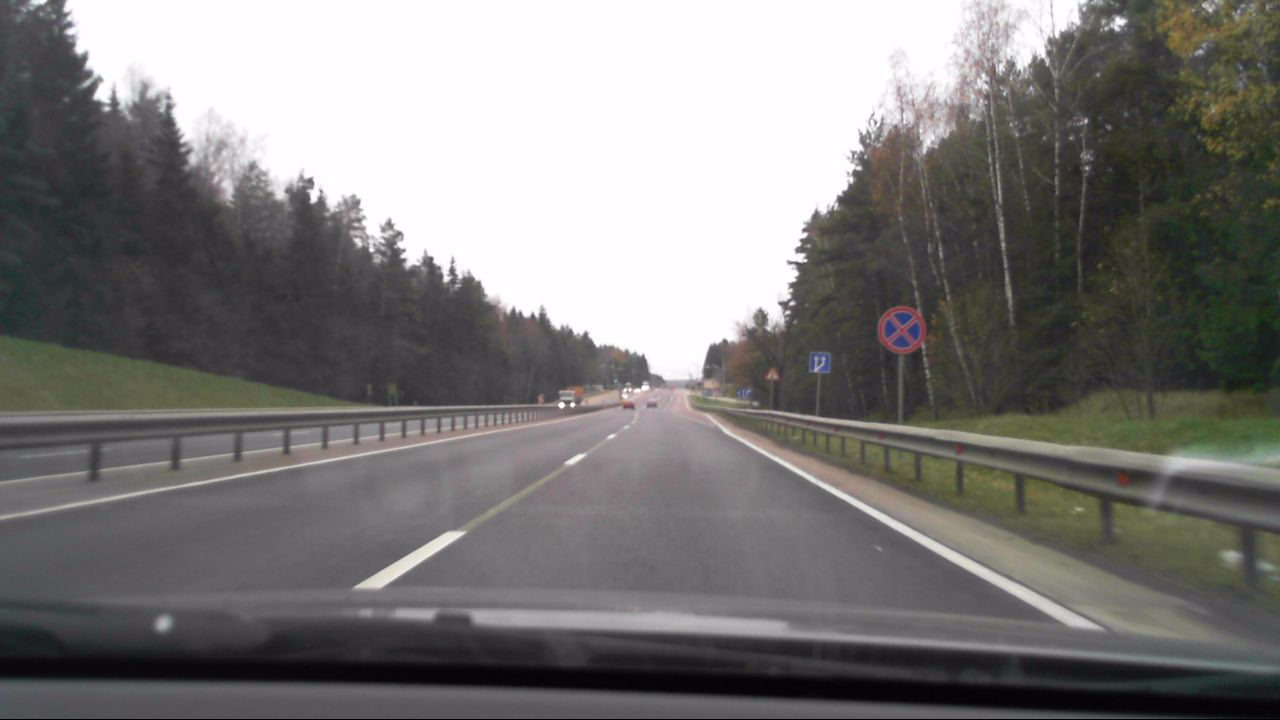No Parking: (876, 302, 927, 355)
